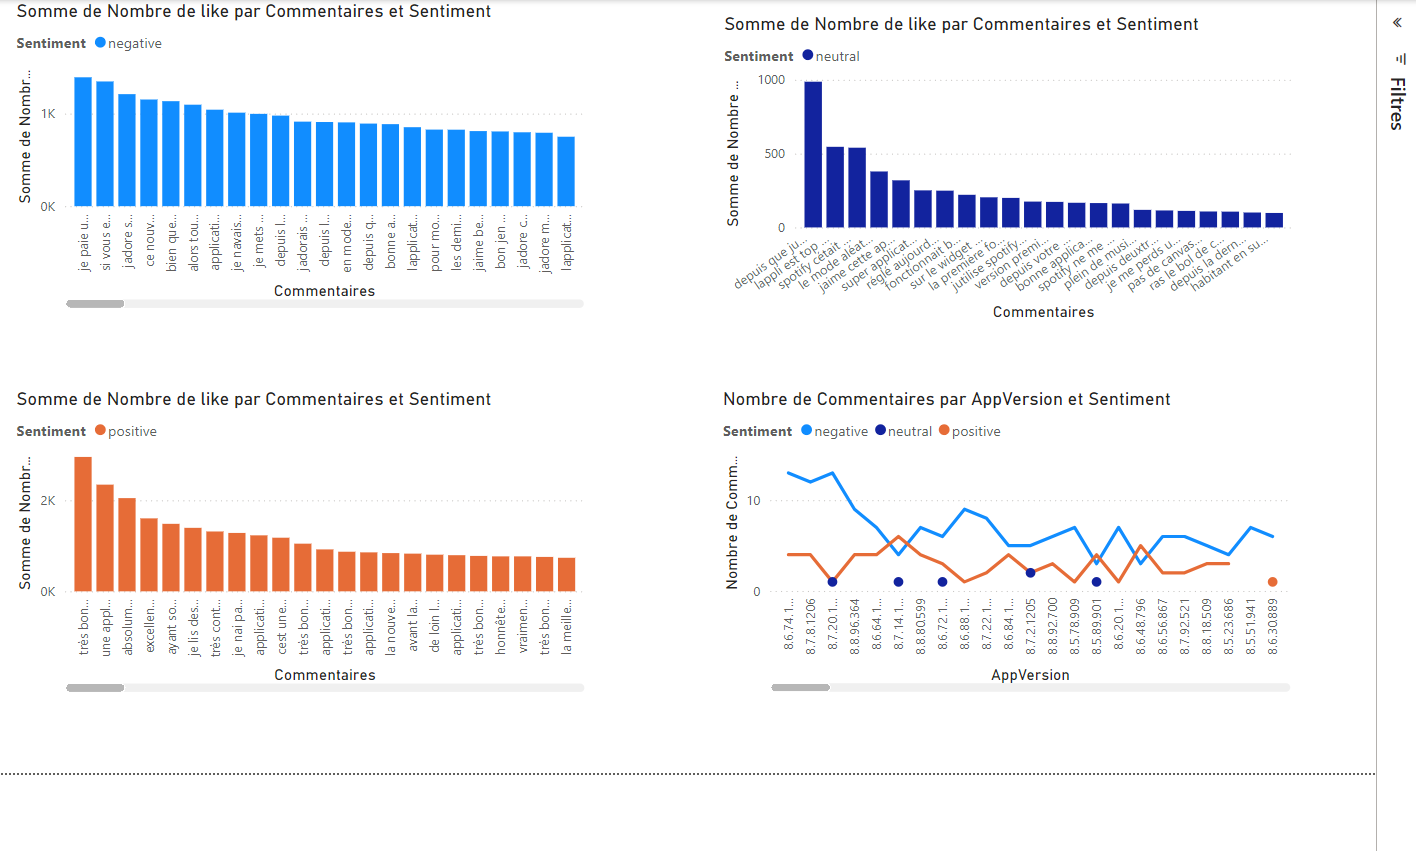

The dashboard page shown, as its layout file describes it:
{"tool":"powerbi","page":{"name":"Page 1","canvas":[1280,720],"ordinal":0},"visuals":[{"type":"clusteredColumnChart","fields":{"Category":["v4_reviews_with_sentiments.Commentaires"],"Series":["v4_reviews_with_sentiments.Sentiment"],"Y":["Sum(v4_reviews_with_sentiments.Nombre de like)"]},"box":[10.1,0,537.8,291.5],"z":0},{"type":"clusteredColumnChart","fields":{"Y":["Sum(v4_reviews_with_sentiments.Nombre de like)"],"Category":["v4_reviews_with_sentiments.Commentaires"],"Series":["v4_reviews_with_sentiments.Sentiment"]},"box":[10,360,538.3,288.3],"z":1},{"type":"columnChart","fields":{"Category":["v4_reviews_with_sentiments.Commentaires"],"Y":["Sum(v4_reviews_with_sentiments.Nombre de like)"],"Series":["v4_reviews_with_sentiments.Sentiment"]},"box":[668.3,11.7,538.3,291.7],"z":2},{"type":"lineChart","fields":{"Category":["v4_reviews_with_sentiments.AppVersion"],"Series":["v4_reviews_with_sentiments.Sentiment"],"Y":["CountNonNull(v4_reviews_with_sentiments.Commentaires)"]},"box":[668,360,538,288],"z":3}]}

Visuals, with their boxes on the page's 1280x720 design canvas (x1, y1, x2, y2). These are canvas units, not pixel positions in the 1416x851 screenshot, which may show the page scaled, cropped or inside an application window:
clusteredColumnChart - v4_reviews_with_sentiments.Commentaires x v4_reviews_with_sentiments.Sentiment: 10/0/548/292
clusteredColumnChart - Sum(v4_reviews_with_sentiments.Nombre de like) x v4_reviews_with_sentiments.Commentaires: 10/360/548/648
columnChart - v4_reviews_with_sentiments.Commentaires x Sum(v4_reviews_with_sentiments.Nombre de like): 668/12/1207/303
lineChart - v4_reviews_with_sentiments.AppVersion x v4_reviews_with_sentiments.Sentiment: 668/360/1206/648
